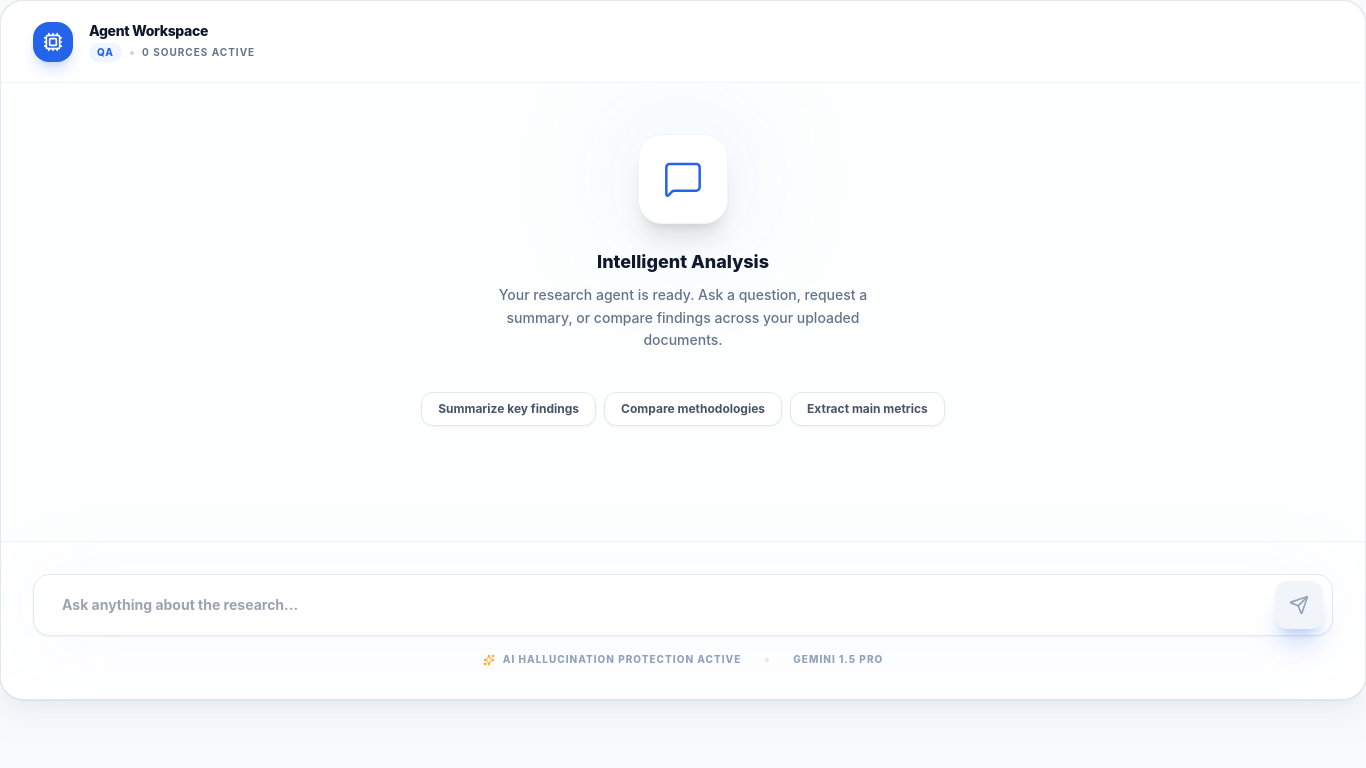
ChatInterface › displays streaming assistant response
(page scrolled)
In the field with placeholder "Ask anything about the research...": (683, 605) [33, 574, 1333, 636], type "Test question"
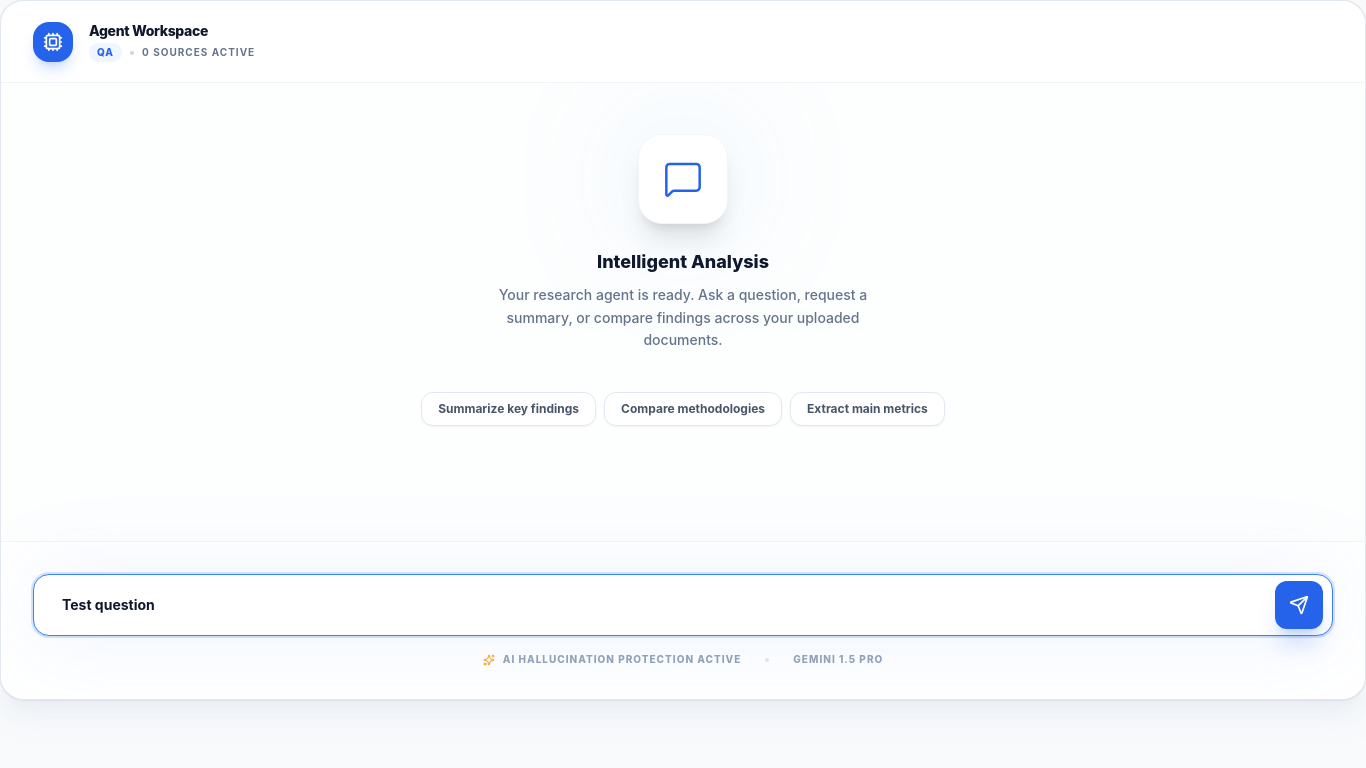
Click the button named "Send message": (1299, 605) [1275, 581, 1323, 629]
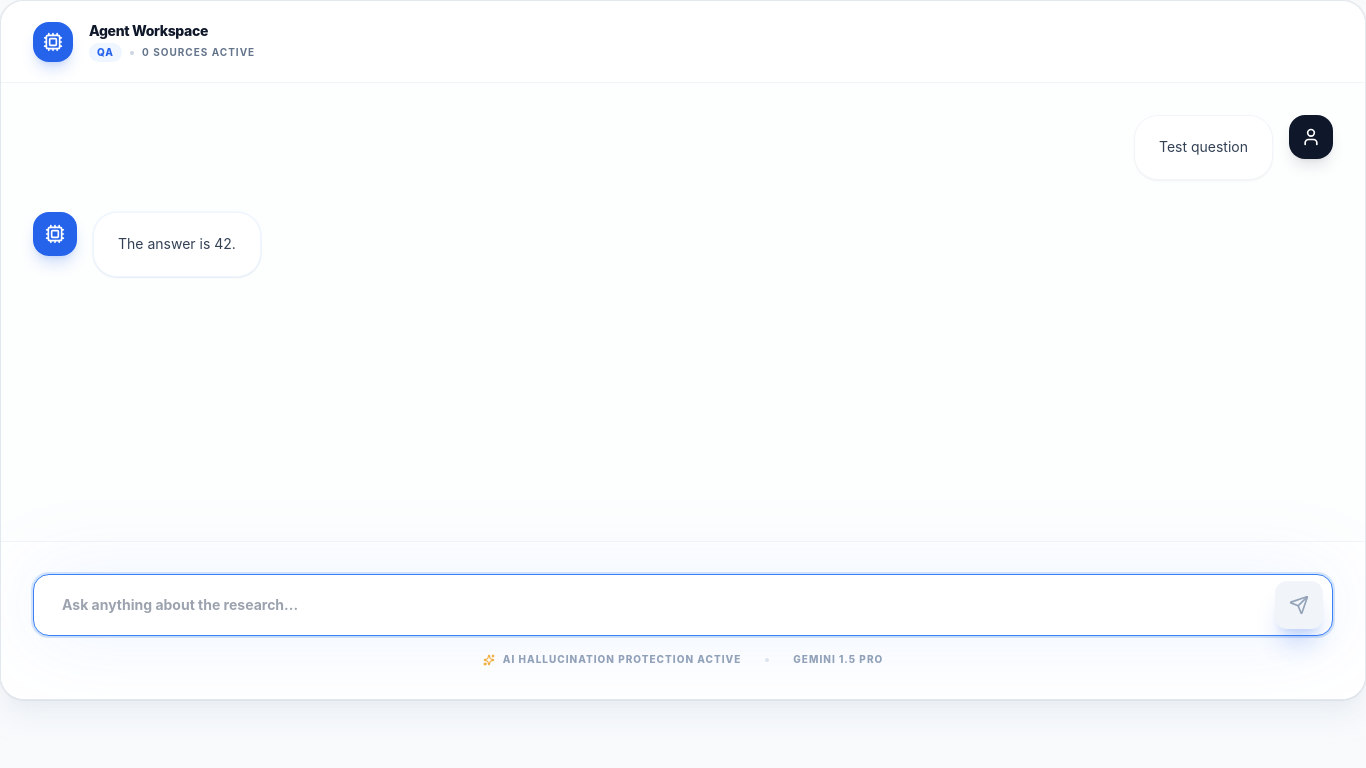
Expected: the text "The answer is 42." is shown, [118, 233, 236, 256]
